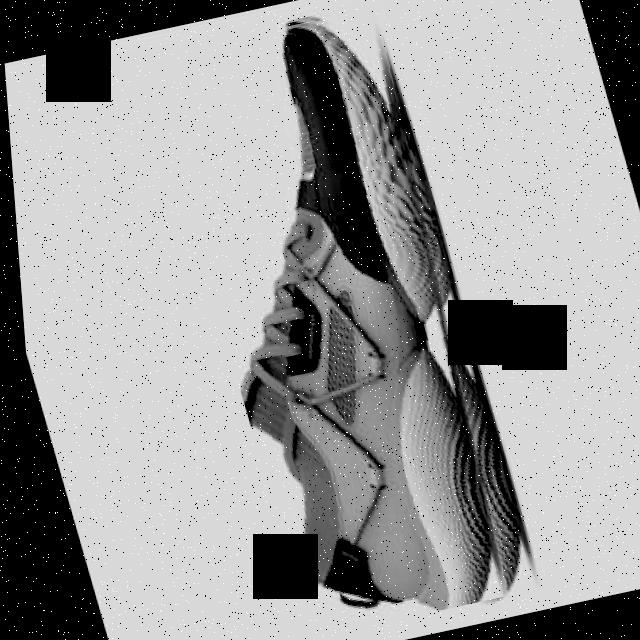shoe: (139, 0, 536, 638)
